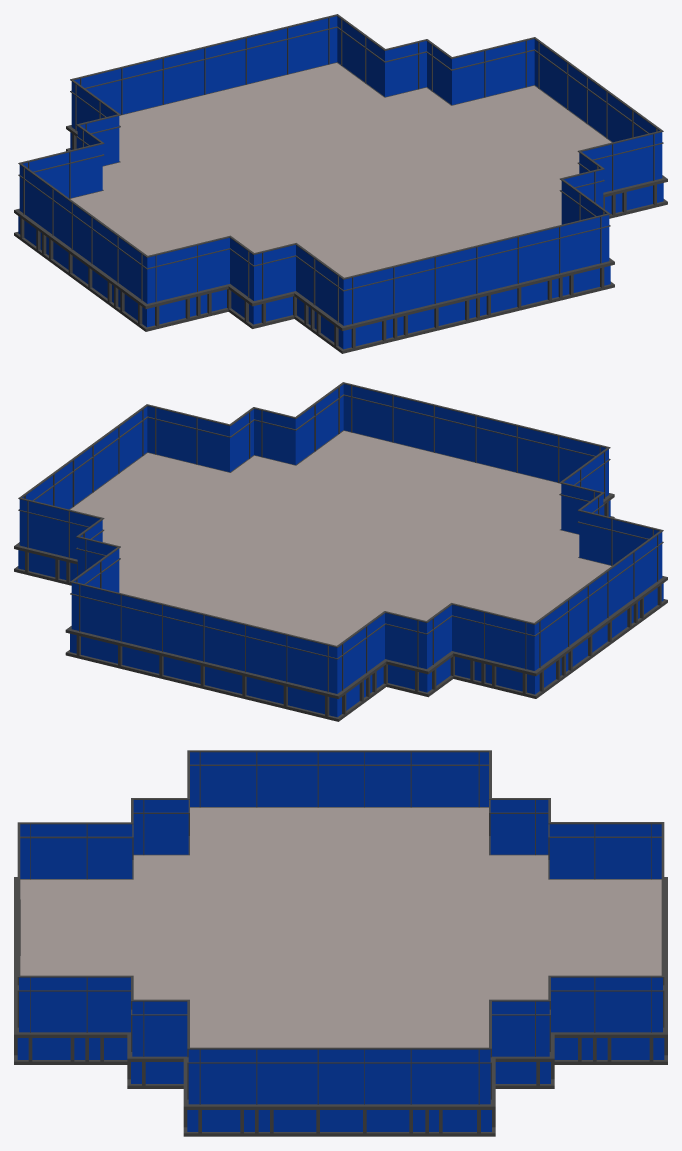
The model's file is floor4.glb.
3 views of the same model, one above another, from view 1: azimuth 30°, elevation 25°; view 2: azimuth 150°, elevation 25°; view 3: azimuth 270°, elevation 25° (orthographic). The views are drawn at different scales.
Visible parts, largest first — view 1: Floor plans 4TH Floor (1), Floor plans 4TH Floor Window Glass, Floor plans 4TH Floor Window Joinery; view 2: Floor plans 4TH Floor (1), Floor plans 4TH Floor Window Glass, Floor plans 4TH Floor Window Joinery; view 3: Floor plans 4TH Floor (1), Floor plans 4TH Floor Window Glass, Floor plans 4TH Floor Window Joinery.
Part boxes in pixels (<box>): Floor plans 4TH Floor (1): <box>14,62,667,353</box>; Floor plans 4TH Floor Window Glass: <box>19,16,662,325</box>; Floor plans 4TH Floor Window Joinery: <box>18,14,663,324</box>; Floor plans 4TH Floor (1): <box>14,430,667,721</box>; Floor plans 4TH Floor Window Glass: <box>19,384,662,693</box>; Floor plans 4TH Floor Window Joinery: <box>18,382,663,692</box>; Floor plans 4TH Floor (1): <box>14,807,667,1136</box>; Floor plans 4TH Floor Window Glass: <box>19,752,662,1104</box>; Floor plans 4TH Floor Window Joinery: <box>17,750,664,1104</box>.
Size of the model in its own units: 38.44 by 5.14 by 35.21.
